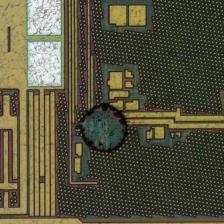BLOCK ETCH: (74, 99, 134, 159)
